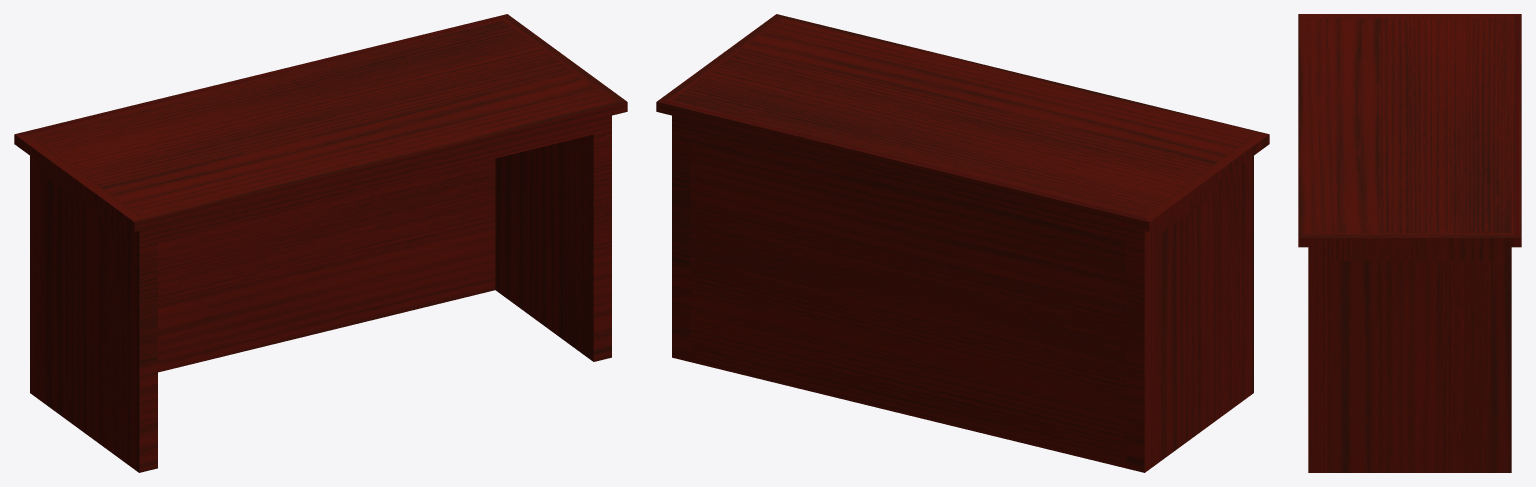
Rendered from desk.gltf.
The picture shows the model from 3 angles, left to right: view 1: azimuth 30°, elevation 25°; view 2: azimuth 150°, elevation 25°; view 3: azimuth 270°, elevation 25°; orthographic projection. The views are drawn at different scales.
Visible parts, largest first — view 1: desk; view 2: desk; view 3: desk.
Boxes of the visible parts, x1=… form: desk: x1=14, y1=14, x2=627, y2=472; desk: x1=656, y1=14, x2=1269, y2=472; desk: x1=1298, y1=14, x2=1521, y2=472.
Bounding box in the file's own units: 2.12 × 1.06 × 0.8952.
1 material, 1 textured.
